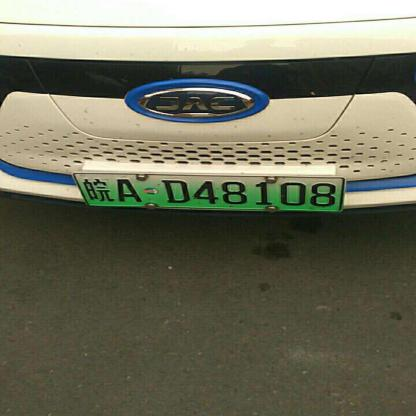lp: (73, 173, 345, 210)
